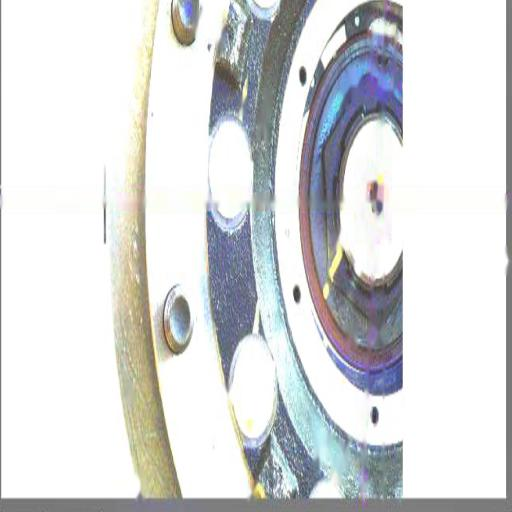center: (368, 183, 382, 211)
notch: (374, 40, 392, 79)
